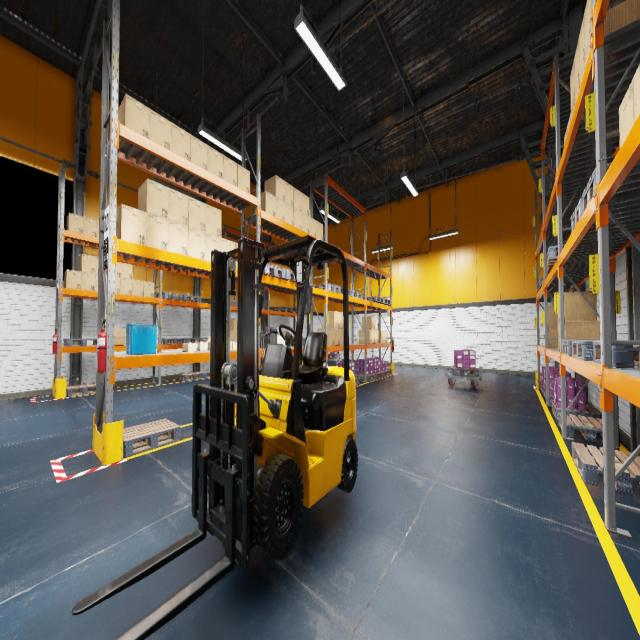box: (592, 0, 640, 36), (118, 94, 150, 138), (138, 178, 169, 220), (116, 204, 146, 245), (619, 78, 634, 148), (564, 291, 596, 321), (150, 109, 171, 150), (146, 212, 168, 250), (171, 122, 190, 161), (169, 188, 188, 226), (168, 220, 188, 256), (188, 196, 206, 232), (190, 135, 208, 170), (564, 321, 600, 338), (188, 227, 205, 260), (264, 175, 285, 201), (254, 191, 275, 216), (206, 204, 221, 238), (208, 146, 223, 178), (584, 0, 592, 55), (223, 155, 237, 186), (206, 233, 221, 261), (633, 63, 640, 122), (237, 164, 250, 193), (579, 13, 585, 75), (222, 238, 236, 264), (574, 37, 580, 95), (64, 270, 81, 289), (67, 213, 83, 233), (79, 254, 95, 273), (318, 328, 334, 346), (83, 217, 97, 237), (81, 272, 95, 291), (570, 59, 575, 110), (324, 311, 339, 328), (585, 31, 592, 66), (285, 181, 294, 207), (95, 257, 107, 275), (548, 326, 558, 347), (114, 328, 126, 345), (95, 274, 107, 291), (548, 306, 558, 326), (294, 187, 302, 212), (276, 197, 284, 221), (132, 279, 143, 296), (358, 330, 372, 343), (294, 208, 302, 230), (285, 203, 293, 225), (143, 281, 154, 297), (121, 278, 132, 294), (121, 263, 132, 279), (362, 316, 375, 329), (302, 192, 309, 215), (302, 212, 309, 234), (309, 216, 316, 237), (580, 57, 585, 86), (182, 342, 196, 352), (316, 221, 323, 240), (575, 78, 580, 104), (378, 330, 388, 342), (194, 342, 208, 350), (334, 328, 340, 345), (115, 278, 121, 294), (571, 97, 575, 120), (115, 262, 121, 277), (567, 112, 571, 134), (230, 319, 237, 330), (235, 243, 238, 268), (564, 126, 567, 146), (558, 324, 560, 350), (340, 328, 343, 345), (340, 312, 343, 328), (207, 336, 210, 350), (230, 331, 234, 341), (375, 330, 378, 343), (372, 330, 375, 343), (232, 342, 237, 349), (97, 220, 99, 237), (234, 331, 237, 341), (557, 313, 559, 323), (230, 342, 232, 350), (544, 333, 544, 337)
forklift: (207, 235, 358, 560)
pallets: (571, 442, 640, 495), (123, 419, 180, 457), (558, 412, 620, 446), (581, 162, 612, 215), (592, 341, 640, 368), (562, 340, 628, 356), (552, 402, 601, 423), (572, 341, 600, 360), (570, 198, 582, 233), (547, 244, 565, 266), (66, 383, 96, 396), (268, 270, 296, 282), (263, 264, 285, 279), (313, 284, 340, 294), (64, 338, 96, 346), (450, 367, 478, 376), (179, 372, 204, 381), (302, 338, 327, 346), (157, 292, 182, 300), (355, 373, 377, 382), (547, 256, 557, 274), (158, 338, 186, 344), (363, 296, 384, 303), (182, 295, 200, 302), (545, 391, 553, 405), (274, 306, 291, 312), (351, 290, 362, 299), (373, 371, 385, 379), (198, 370, 210, 378), (378, 298, 391, 305), (340, 288, 351, 296), (183, 338, 205, 342), (380, 369, 392, 376), (539, 278, 543, 290), (542, 386, 546, 398), (285, 308, 297, 312), (328, 354, 340, 358), (230, 301, 237, 306), (355, 378, 359, 386), (540, 383, 543, 393), (537, 282, 539, 292), (262, 306, 265, 310), (205, 338, 208, 341), (292, 363, 292, 366)
